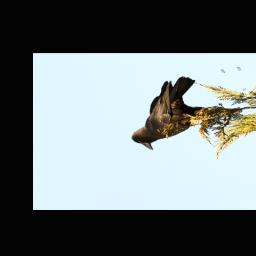Crow: (95, 75, 239, 154)
